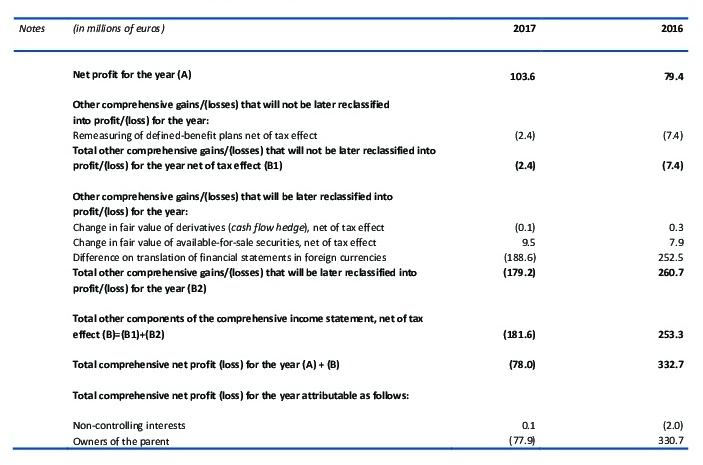table: (0, 0, 703, 465)
